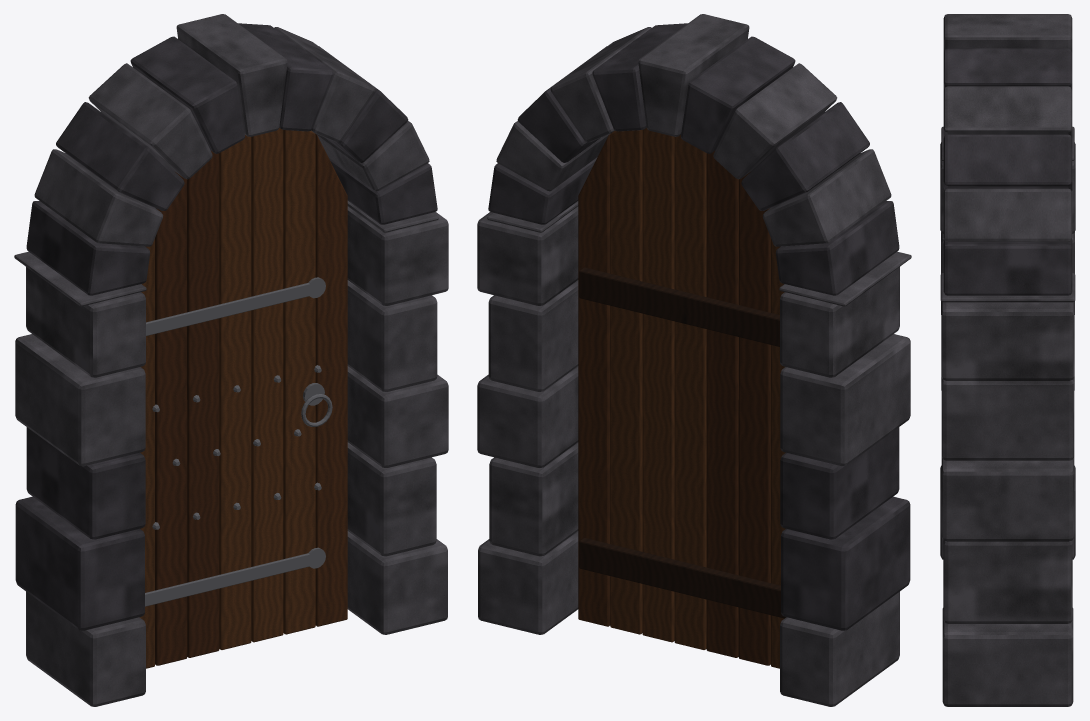
Rendered from voutee.glb.
3 views of the same model, side by side, from view 1: azimuth 30°, elevation 25°; view 2: azimuth 150°, elevation 25°; view 3: azimuth 270°, elevation 25° (orthographic).
Visible parts, largest first — view 1: voutee_cadre, voutee_battant; view 2: voutee_cadre, voutee_battant; view 3: voutee_cadre.
Boxes of the visible parts, x1,y1,x2,y2 form: voutee_cadre: (14, 14, 448, 706); voutee_battant: (139, 128, 347, 668); voutee_cadre: (477, 14, 911, 706); voutee_battant: (578, 128, 786, 668); voutee_cadre: (940, 14, 1075, 706).
Size of the model in its own units: 1.65 by 2.56 by 0.5283.
Materials: 9 (7 with a texture image).
